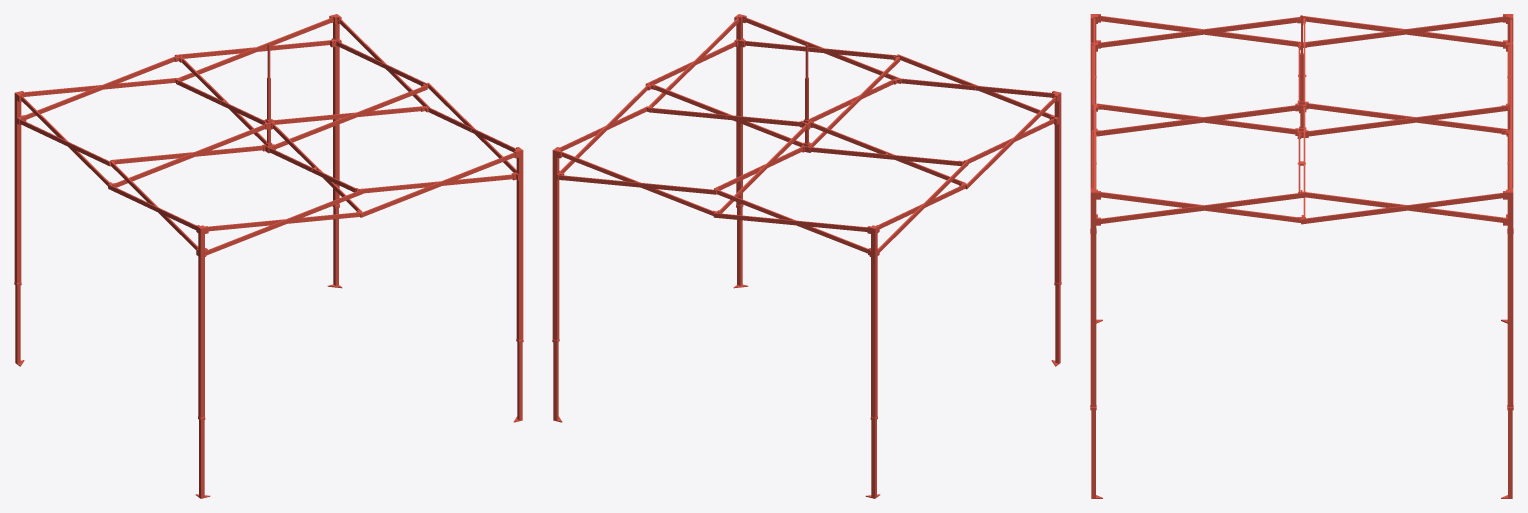
Rendered from SM_Tent_Frame_Color_Movie.fbx.
3 renders of one model, left to right at view 1: azimuth 30°, elevation 25°; view 2: azimuth 150°, elevation 25°; view 3: azimuth 270°, elevation 25°, orthographic. The views are drawn at different scales.
Parts seen in each view (by area): view 1: SM_Tent_Frame_Color_Movie; view 2: SM_Tent_Frame_Color_Movie; view 3: SM_Tent_Frame_Color_Movie.
Boxes of the visible parts, x1=… form: SM_Tent_Frame_Color_Movie: x1=14, y1=14, x2=523, y2=498; SM_Tent_Frame_Color_Movie: x1=552, y1=14, x2=1061, y2=498; SM_Tent_Frame_Color_Movie: x1=1090, y1=14, x2=1513, y2=498.
Bounding box in the file's own units: 298 × 298 × 307.
